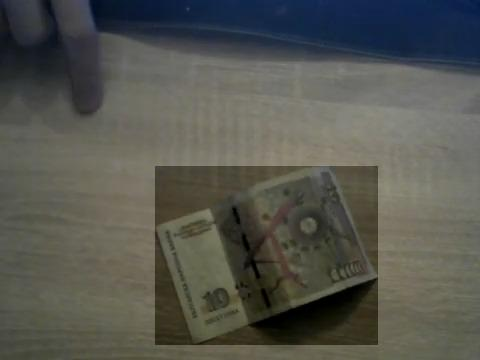10leva: (155, 166, 378, 345)
